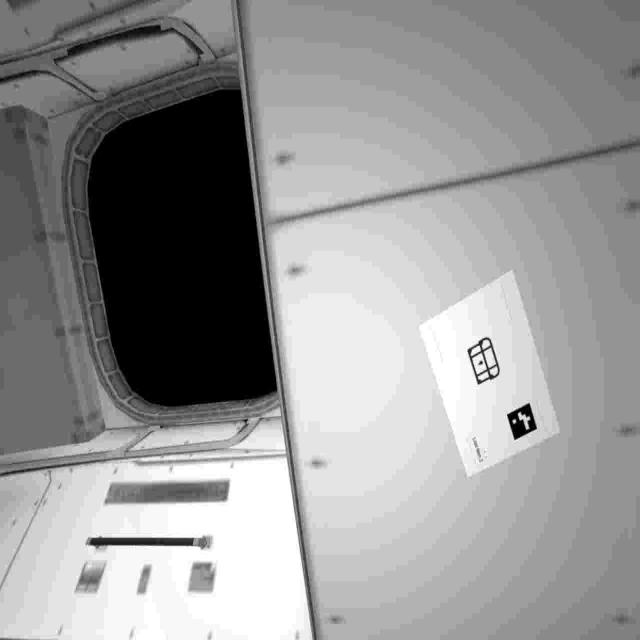treasure_box: (467, 334, 507, 389)
